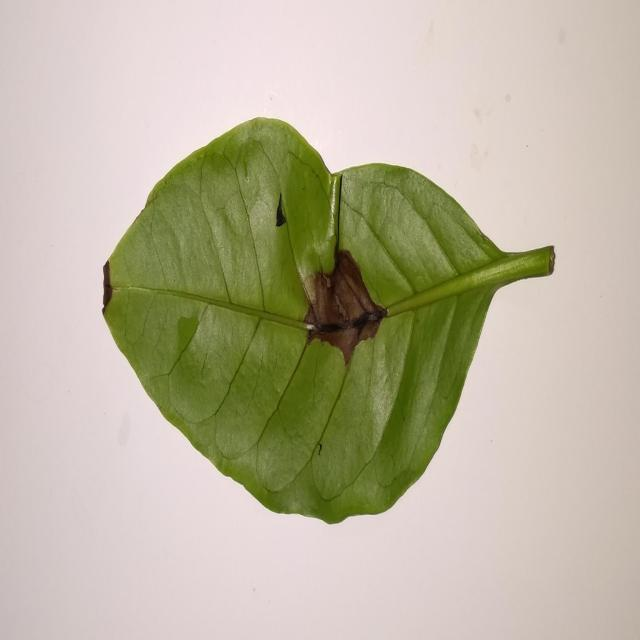Enfermedad-Antracnosis: (101, 118, 556, 528)
